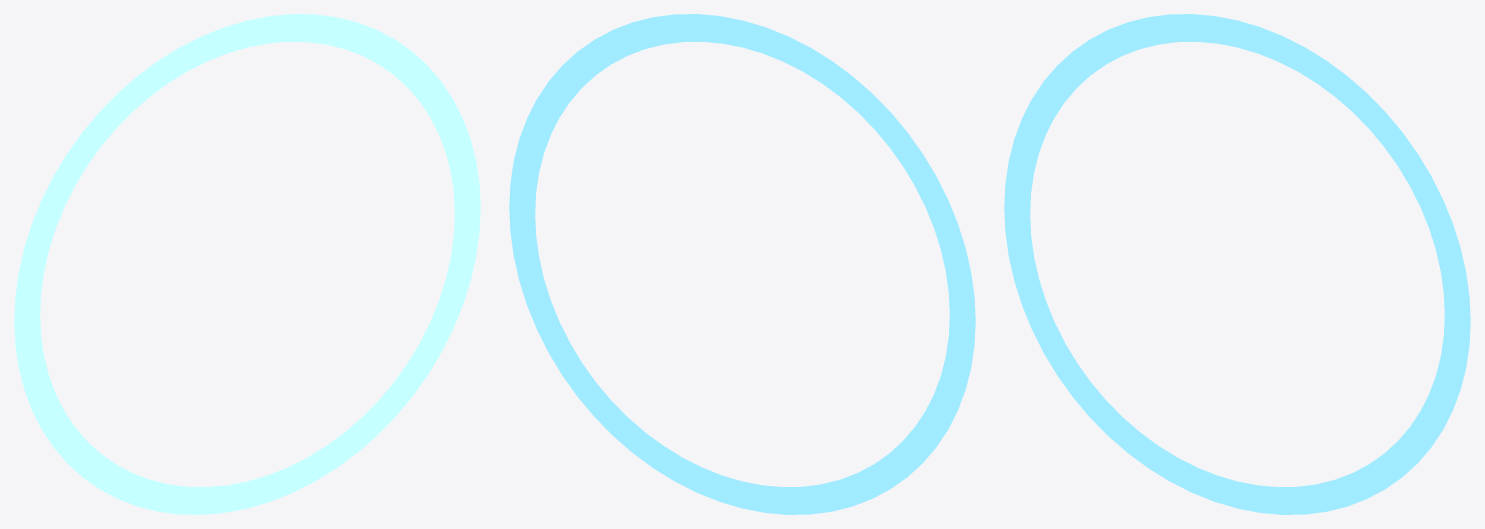
The model's file is manipulator.dae.
The picture shows the model from 3 angles, left to right: view 1: azimuth 30°, elevation 25°; view 2: azimuth 150°, elevation 25°; view 3: azimuth 330°, elevation 25°; orthographic projection.
Visible parts, largest first — view 1: manipulator; view 2: manipulator; view 3: manipulator.
Part boxes in pixels (x1,y1,x2,y2): manipulator: [14, 14, 480, 514]; manipulator: [509, 14, 975, 514]; manipulator: [1004, 14, 1470, 514].
Size of the model in its own units: 0.3948 by 6.4e-08 by 0.3948.
